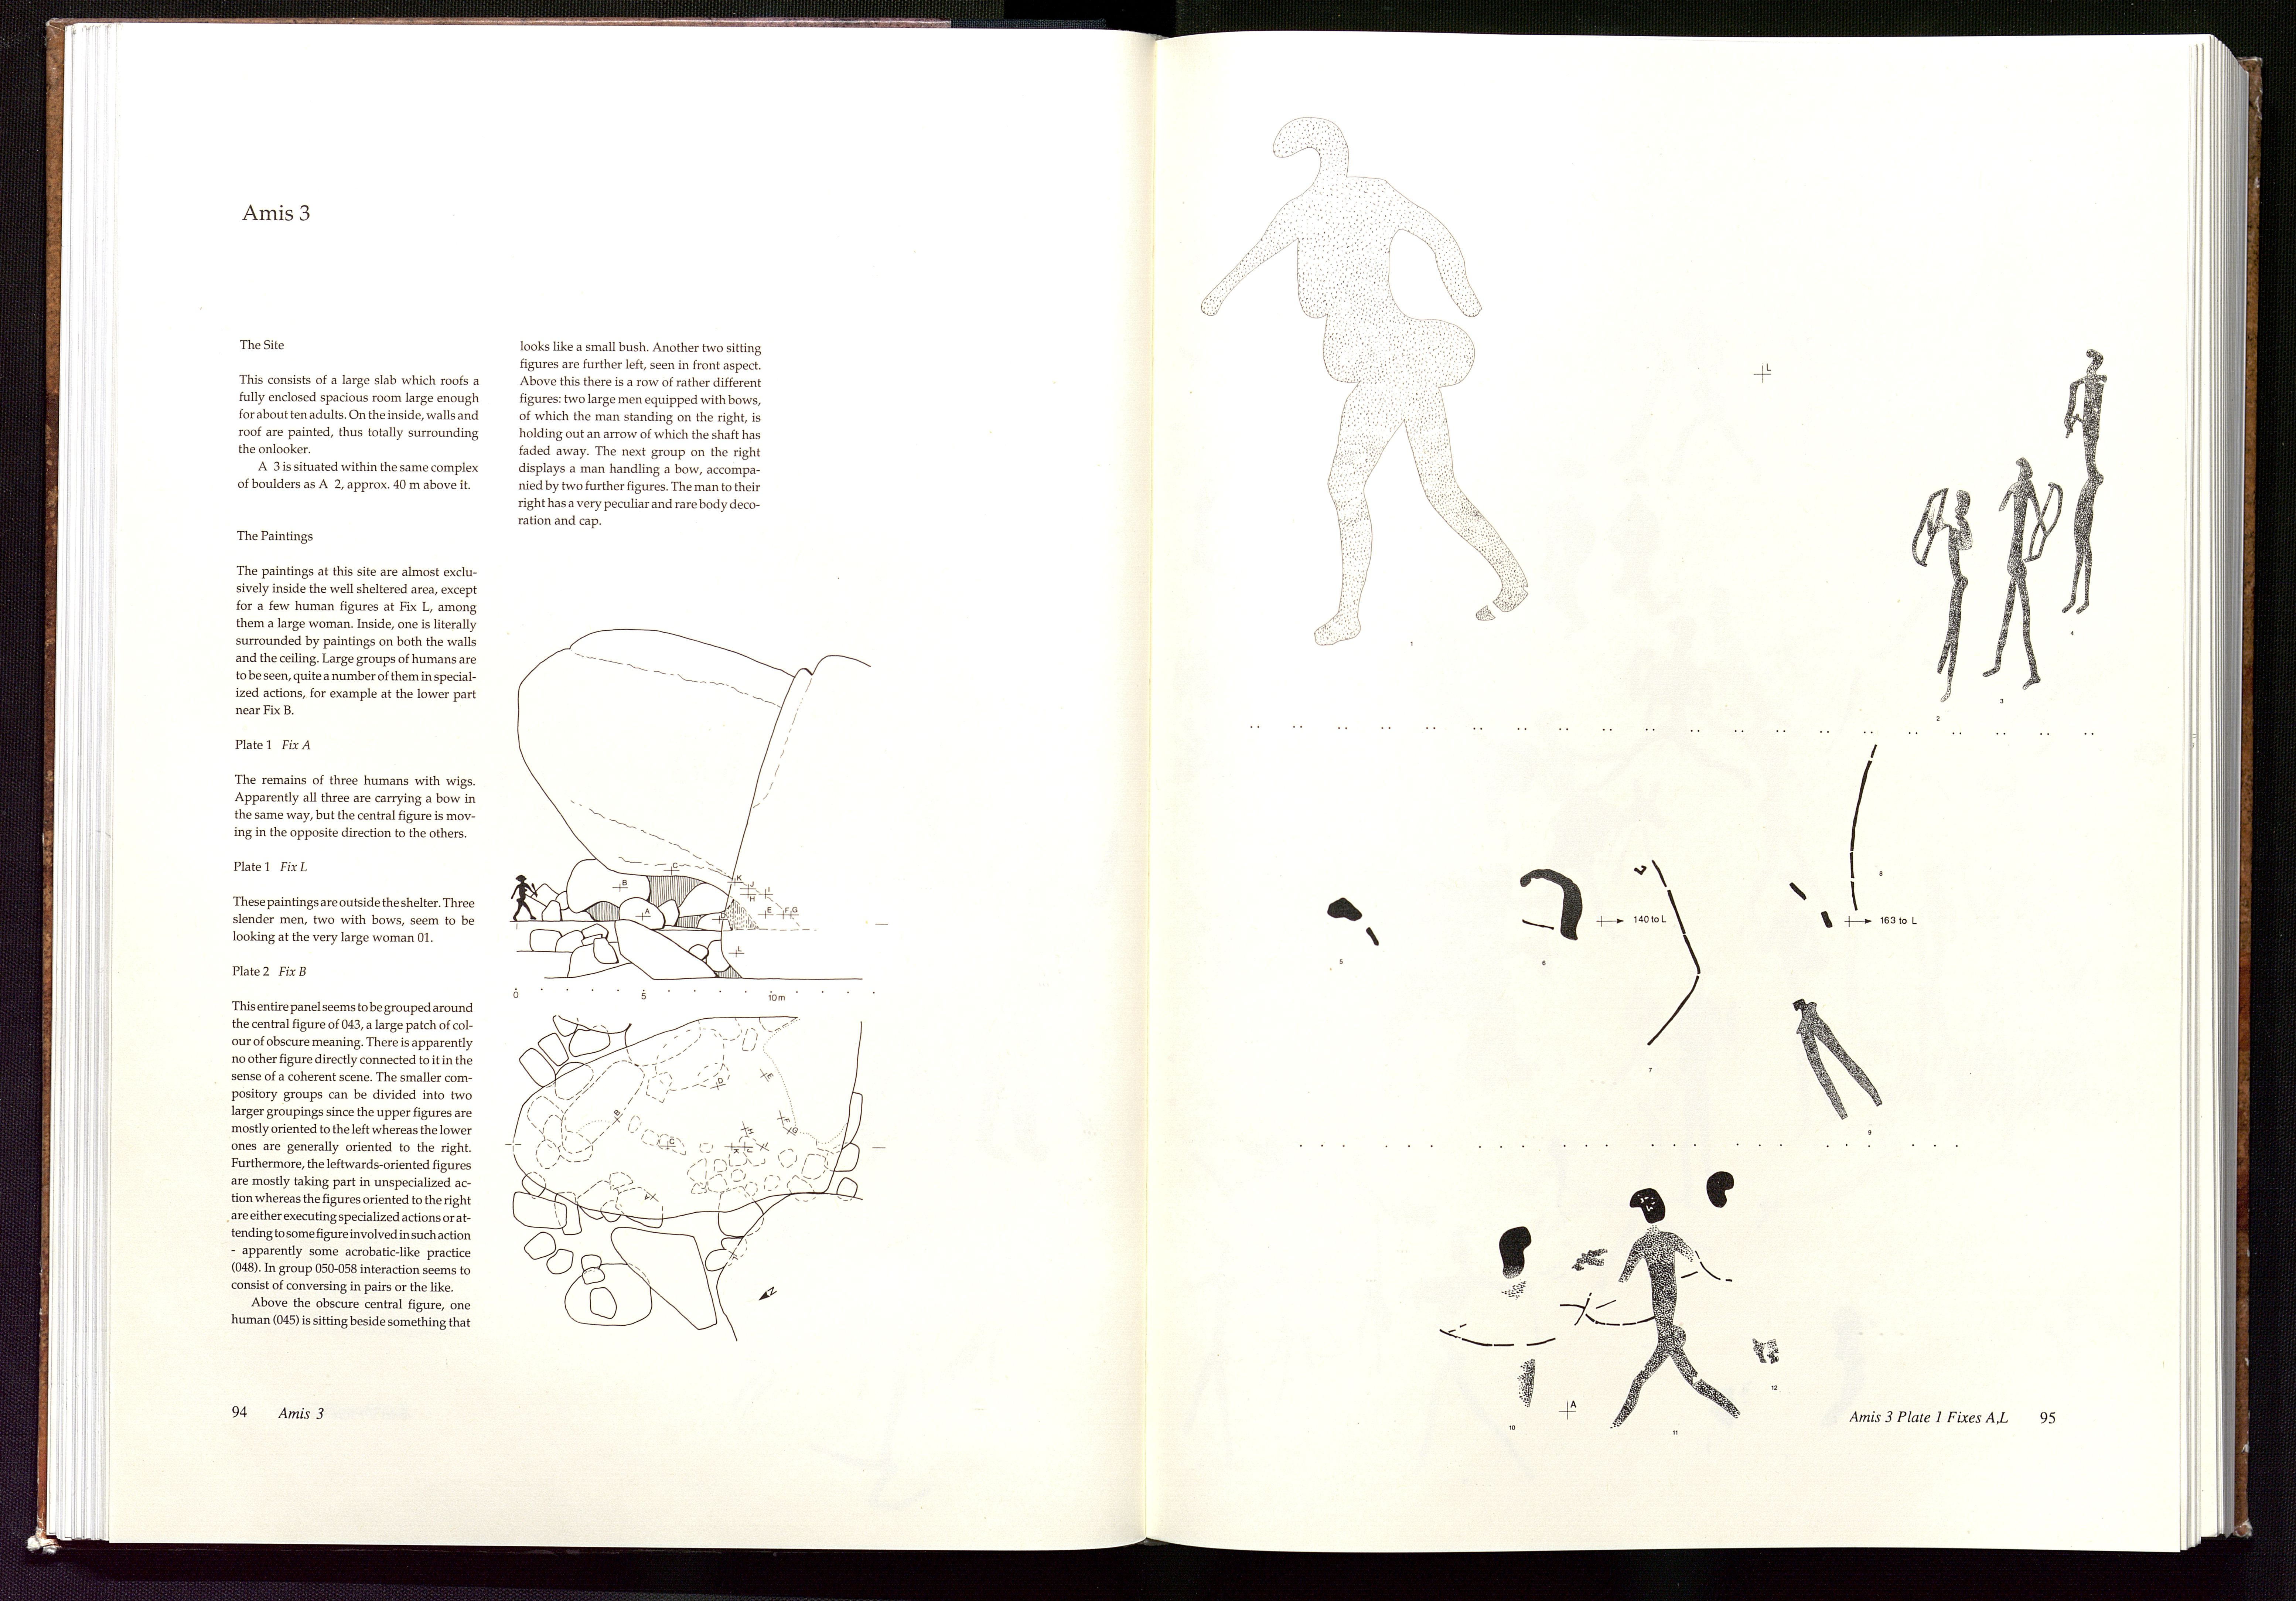human: (1200, 117, 1528, 646), (1585, 1188, 1745, 1431), (1981, 455, 2062, 691), (1910, 488, 1972, 703), (2062, 348, 2108, 614)
